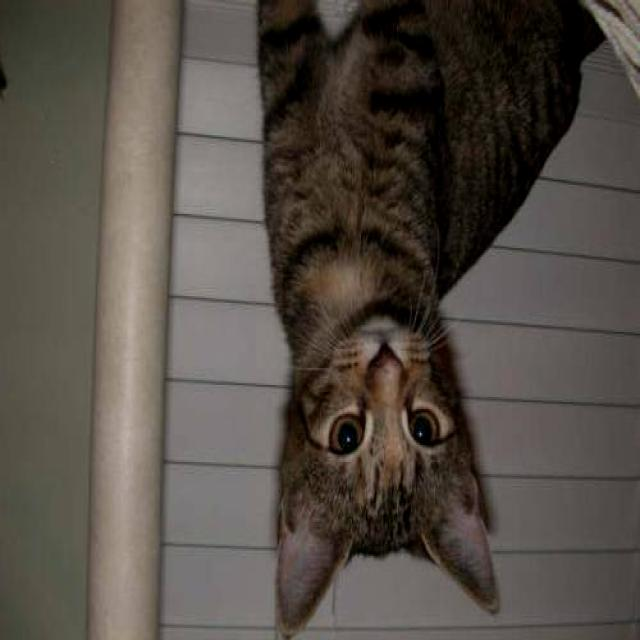Kucing: (219, 38, 570, 640)
